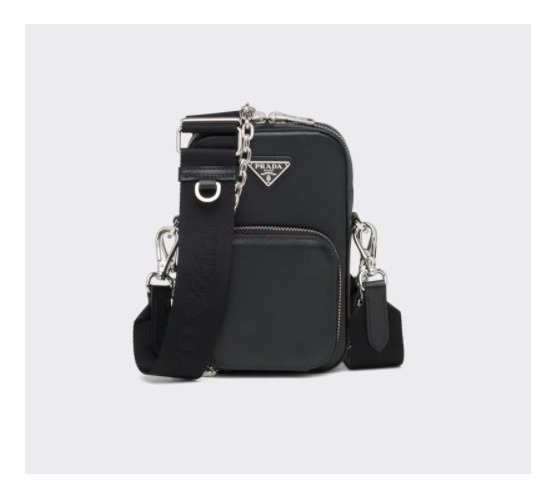cartera: (129, 107, 406, 381)
